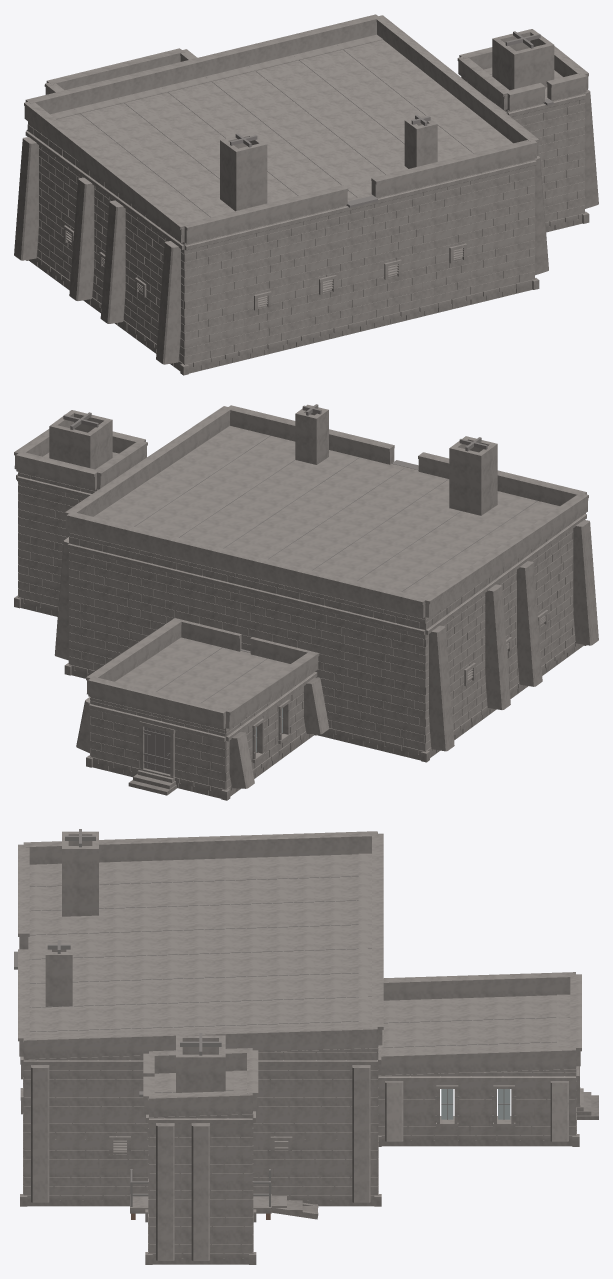
The model's file is world_installed_smithy.glb.
The picture shows the model from 3 angles, top to bottom: view 1: azimuth 30°, elevation 25°; view 2: azimuth 150°, elevation 25°; view 3: azimuth 270°, elevation 25°; orthographic projection. The views are drawn at different scales.
Visible parts, largest first — view 1: world_emberholt.emberholt_main_block.facade_masonry_skin, world_emberholt.emberholt_main_block.Draining terrace roof, world_emberholt.emberholt_main_block.Terrace parapet and cop, world_emberholt.emberholt_main_block.facade_walls, world_emberholt.emberholt_vent_tower.facade_masonry_skin, world_emberholt.emberholt_main_block.facade_stone, world_emberholt.emberholt_main_block.facade_timber, world_emberholt.emberholt_vent_tower.Terrace parapet and cop, world_emberholt.emberholt_main_block.emberholt_primary_vent, world_emberholt.emberholt_vent_tower.emberholt_tower_vent, world_emberholt.emberholt_main_block.emberholt_buttress_3_1, world_emberholt.emberholt_main_block.emberholt_buttress_3_2 (+10 smaller); view 2: world_emberholt.emberholt_main_block.facade_masonry_skin, world_emberholt.emberholt_main_block.Draining terrace roof, world_emberholt.emberholt_main_block.Terrace parapet and cop, world_emberholt.emberholt_forge_work_range.Terrace parapet a, world_emberholt.emberholt_forge_work_range.facade_masonry_sk, world_emberholt.emberholt_main_block.facade_walls, world_emberholt.emberholt_forge_work_range.Draining terrace , world_emberholt.emberholt_vent_tower.facade_masonry_skin, world_emberholt.emberholt_vent_tower.Terrace parapet and cop, world_emberholt.emberholt_main_block.facade_timber, world_emberholt.emberholt_main_block.emberholt_primary_vent, world_emberholt.emberholt_forge_work_range.facade_timber (+15 smaller); view 3: world_emberholt.emberholt_main_block.Draining terrace roof, world_emberholt.emberholt_main_block.facade_masonry_skin, world_emberholt.emberholt_main_block.Terrace parapet and cop, world_emberholt.emberholt_forge_work_range.Terrace parapet a, world_emberholt.emberholt_vent_tower.facade_masonry_skin, world_emberholt.emberholt_forge_work_range.Draining terrace , world_emberholt.emberholt_main_block.facade_walls, world_emberholt.emberholt_forge_work_range.facade_masonry_sk, world_emberholt.emberholt_vent_tower.Terrace parapet and cop, world_emberholt.emberholt_forge_work_range.facade_walls, world_emberholt.emberholt_main_block.emberholt_primary_vent, world_emberholt.emberholt_vent_tower.emberholt_tower_vent (+19 smaller).
Part boxes in pixels (x1,y1,x2,y2): world_emberholt.emberholt_main_block.facade_masonry_skin: [27, 121, 535, 363]; world_emberholt.emberholt_main_block.Draining terrace roof: [56, 40, 534, 244]; world_emberholt.emberholt_main_block.Terrace parapet and cop: [24, 14, 539, 243]; world_emberholt.emberholt_main_block.facade_walls: [28, 34, 534, 363]; world_emberholt.emberholt_vent_tower.facade_masonry_skin: [461, 76, 585, 221]; world_emberholt.emberholt_main_block.facade_stone: [29, 257, 535, 372]; world_emberholt.emberholt_main_block.facade_timber: [25, 129, 537, 310]; world_emberholt.emberholt_vent_tower.Terrace parapet and cop: [457, 46, 588, 110]; world_emberholt.emberholt_main_block.emberholt_primary_vent: [220, 132, 267, 211]; world_emberholt.emberholt_vent_tower.emberholt_tower_vent: [492, 29, 554, 90]; world_emberholt.emberholt_main_block.emberholt_buttress_3_1: [69, 177, 94, 300]; world_emberholt.emberholt_main_block.emberholt_buttress_3_2: [100, 200, 125, 323]; world_emberholt.emberholt_main_block.facade_masonry_skin: [68, 514, 583, 750]; world_emberholt.emberholt_main_block.Draining terrace roof: [90, 426, 559, 620]; world_emberholt.emberholt_main_block.Terrace parapet and cop: [64, 405, 588, 618]; world_emberholt.emberholt_forge_work_range.Terrace parapet a: [86, 618, 319, 729]; world_emberholt.emberholt_forge_work_range.facade_masonry_sk: [90, 672, 314, 788]; world_emberholt.emberholt_main_block.facade_walls: [69, 426, 573, 750]; world_emberholt.emberholt_forge_work_range.Draining terrace : [91, 637, 290, 730]; world_emberholt.emberholt_vent_tower.facade_masonry_skin: [18, 472, 95, 606]; world_emberholt.emberholt_vent_tower.Terrace parapet and cop: [14, 429, 147, 490]; world_emberholt.emberholt_main_block.facade_timber: [66, 513, 586, 686]; world_emberholt.emberholt_main_block.emberholt_primary_vent: [449, 436, 497, 515]; world_emberholt.emberholt_forge_work_range.facade_timber: [88, 672, 317, 777]; world_emberholt.emberholt_main_block.Draining terrace roof: [23, 854, 377, 1059]; world_emberholt.emberholt_main_block.facade_masonry_skin: [23, 1047, 378, 1194]; world_emberholt.emberholt_main_block.Terrace parapet and cop: [18, 831, 383, 1058]; world_emberholt.emberholt_forge_work_range.Terrace parapet a: [378, 972, 581, 1074]; world_emberholt.emberholt_vent_tower.facade_masonry_skin: [148, 1111, 253, 1252]; world_emberholt.emberholt_forge_work_range.Draining terrace : [383, 995, 575, 1073]; world_emberholt.emberholt_main_block.facade_walls: [23, 853, 377, 1194]; world_emberholt.emberholt_forge_work_range.facade_masonry_sk: [378, 1066, 576, 1134]; world_emberholt.emberholt_vent_tower.Terrace parapet and cop: [143, 1048, 258, 1116]; world_emberholt.emberholt_forge_work_range.facade_walls: [378, 994, 575, 1134]; world_emberholt.emberholt_main_block.emberholt_primary_vent: [62, 831, 98, 916]; world_emberholt.emberholt_vent_tower.emberholt_tower_vent: [176, 1035, 225, 1092].
Bounding box in the file's own units: 23.59 × 9.1 × 21.48.
6 materials, 4 textured.
